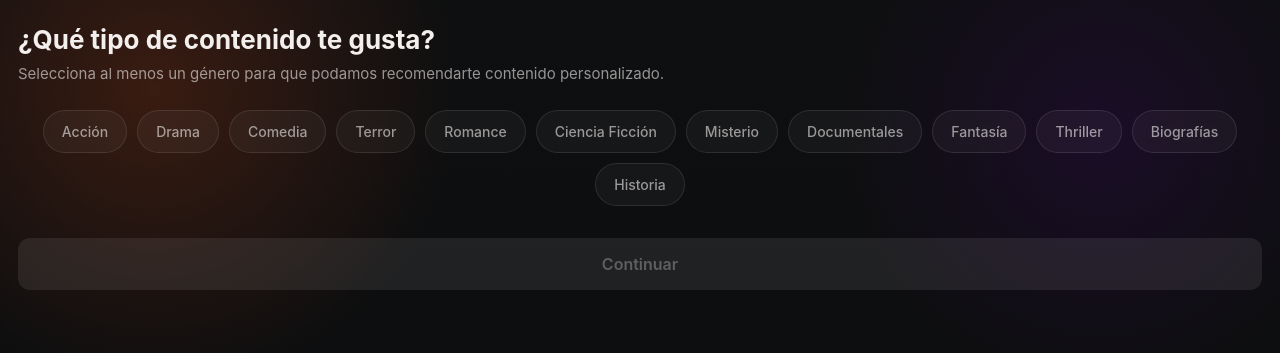
Onboarding › allows toggling genre selection on and off
The width and height of the screenshot is (1280, 353).
What coordinates should you click on to do the following:
click the button "Drama"
I would click on:
 (178, 131)
Its box is [137,110,219,153].
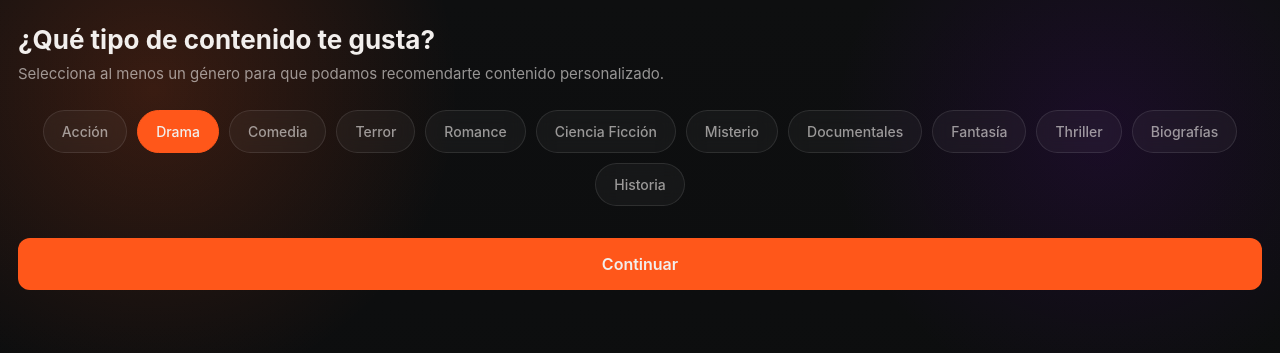
Result: the button "Continuar" is enabled at [18,238,1262,290]
What coordinates should you click on to do the following:
click the button "Drama"
I would click on:
 (178, 131)
Its box is [137,110,219,153].
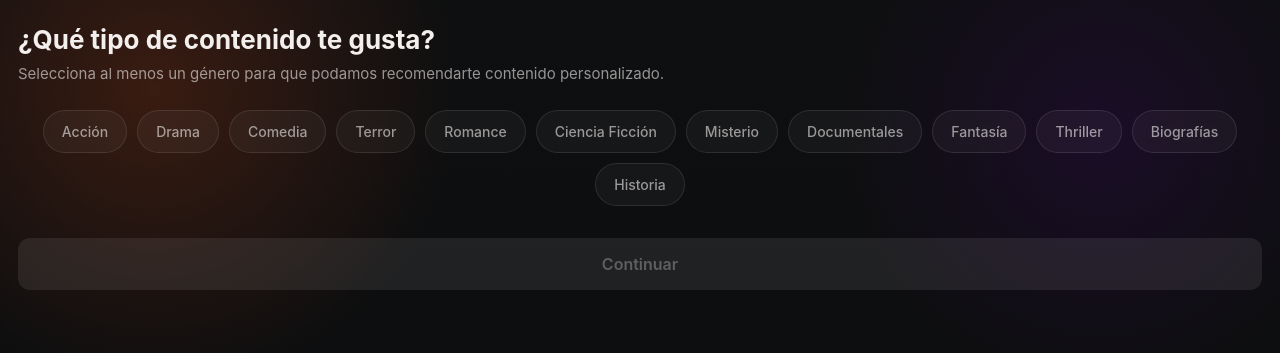
Result: the button "Continuar" is disabled at [18,238,1262,290]
